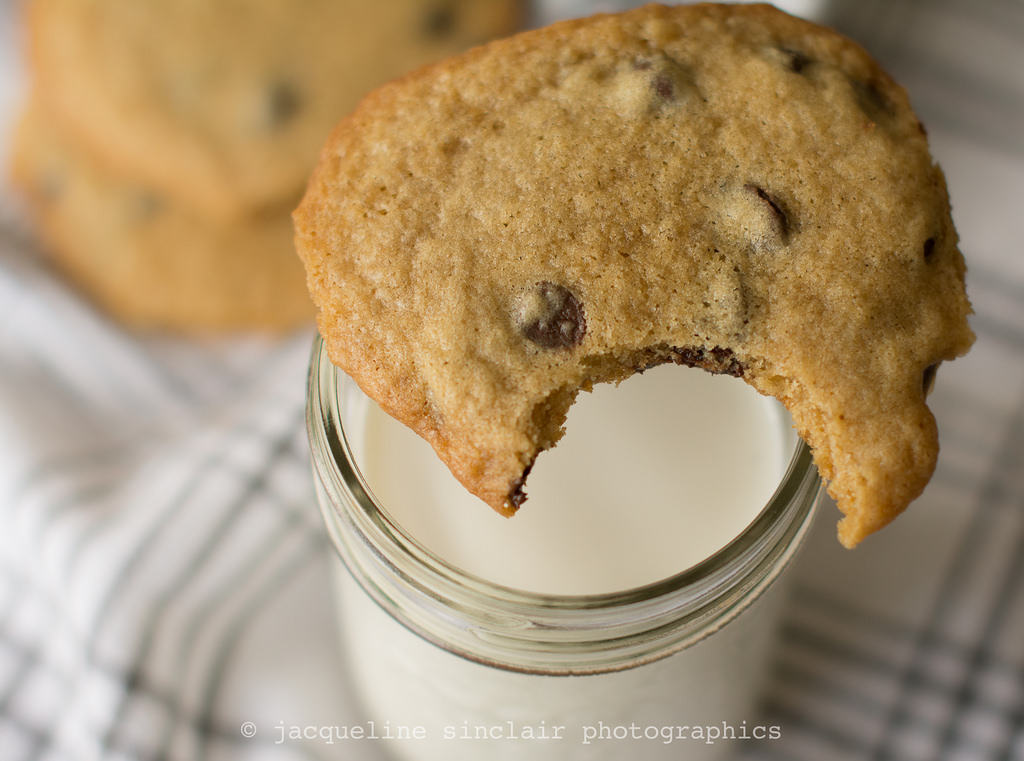glass of milk: (296, 281, 837, 757)
